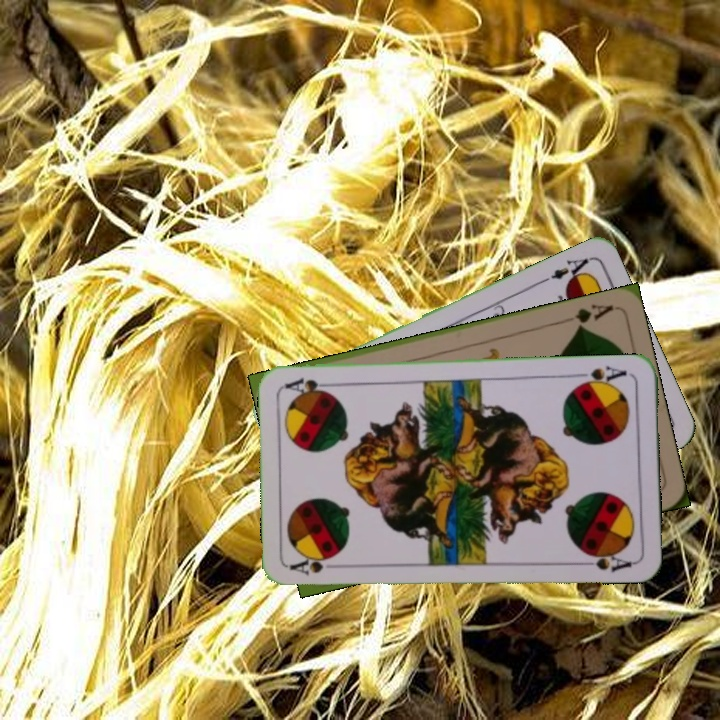EA: (537, 254, 593, 286)
GA: (558, 300, 617, 332)
SA: (572, 362, 629, 389), (287, 554, 335, 578)
